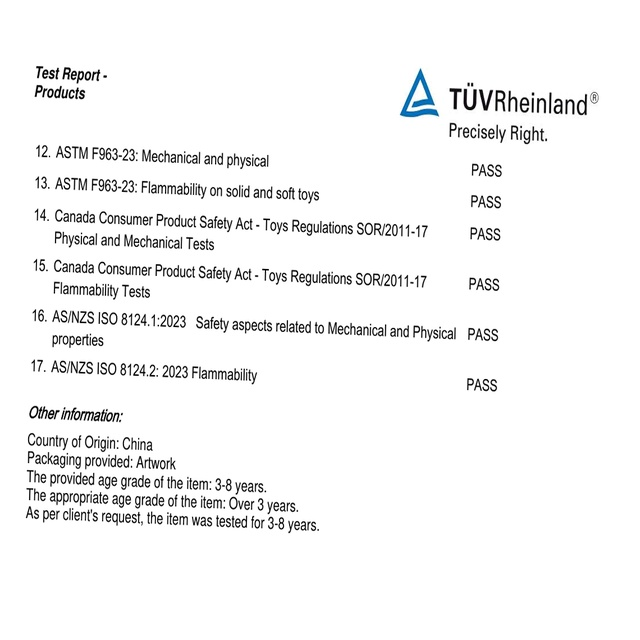tuv_rheinland: (398, 70, 601, 119)
